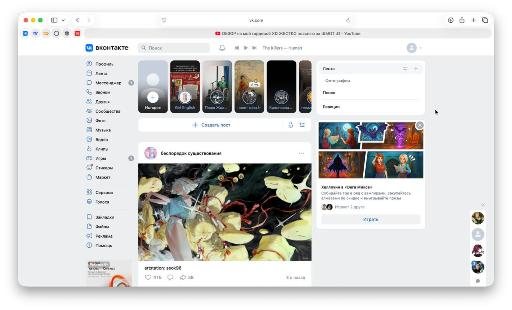vk: (17, 38, 495, 286)
